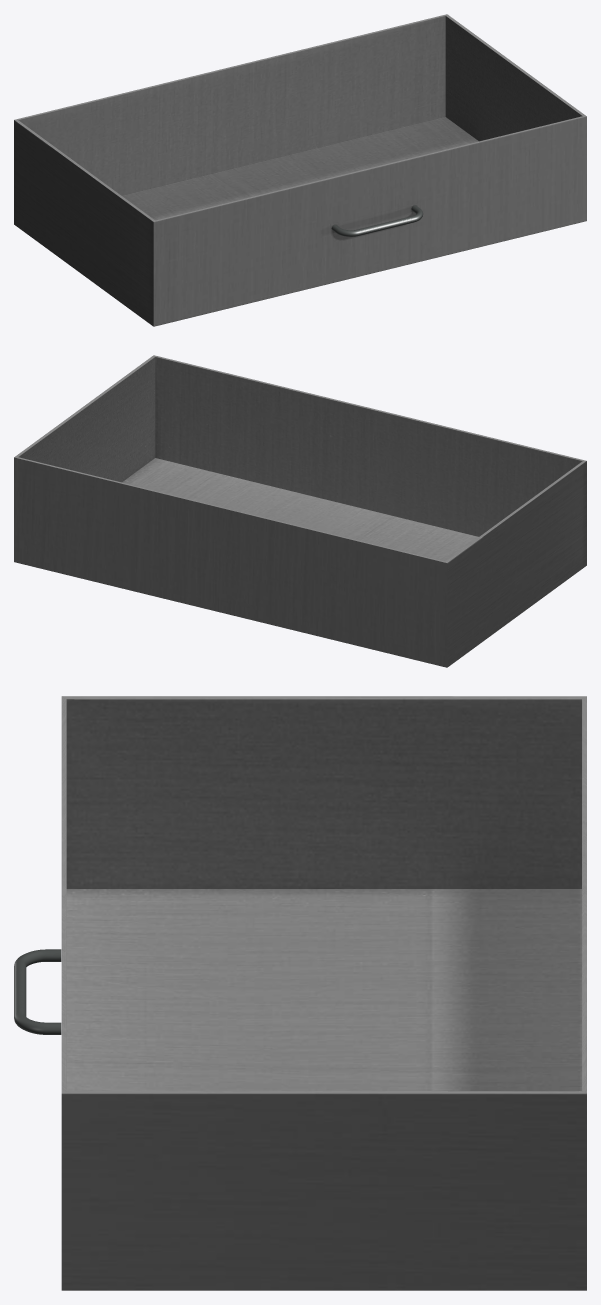
The model's file is drawer_h.gltf.
3 renders of one model, top to bottom at view 1: azimuth 30°, elevation 25°; view 2: azimuth 150°, elevation 25°; view 3: azimuth 270°, elevation 25°, orthographic. The views are drawn at different scales.
Visible parts, largest first — view 1: drawer_h, handle_h; view 2: drawer_h; view 3: drawer_h, handle_h.
Part boxes in pixels (x1,y1,x2,y2): drawer_h: (14, 14, 586, 326); handle_h: (331, 205, 423, 236); drawer_h: (14, 355, 586, 667); drawer_h: (61, 696, 586, 1290); handle_h: (14, 949, 61, 1034).
Size of the model in its own units: 3.17 by 0.7323 by 1.93.
2 materials, 2 textured.
